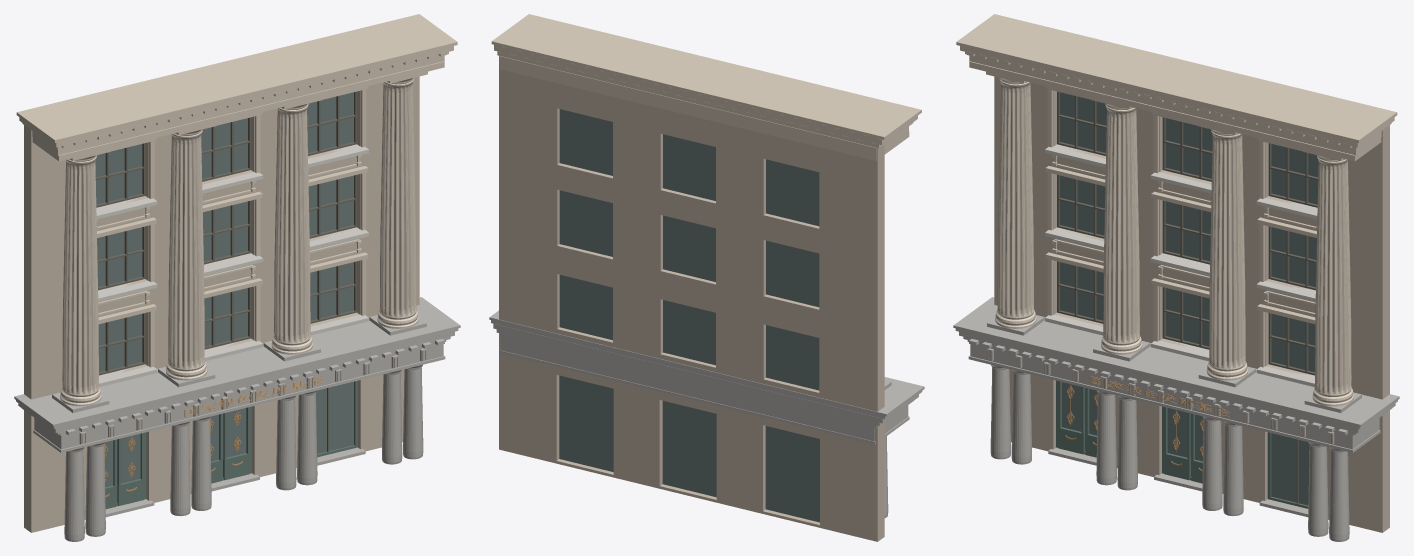
File: huangpu-china-south-sea-bank-front-raw.glb
3 renders of one model, left to right at view 1: azimuth 30°, elevation 25°; view 2: azimuth 150°, elevation 25°; view 3: azimuth 330°, elevation 25°, orthographic. The views are drawn at different scales.
Parts seen in each view (by area): view 1: 中南银行大楼汉口路南立面中央柱列; view 2: 中南银行大楼汉口路南立面中央柱列; view 3: 中南银行大楼汉口路南立面中央柱列.
Part boxes in pixels (x1,y1,x2,y2): 中南银行大楼汉口路南立面中央柱列: [14, 14, 460, 541]; 中南银行大楼汉口路南立面中央柱列: [489, 14, 924, 541]; 中南银行大楼汉口路南立面中央柱列: [953, 14, 1399, 541].
Bounding box in the file's own units: 16.94 × 16.57 × 2.82.
